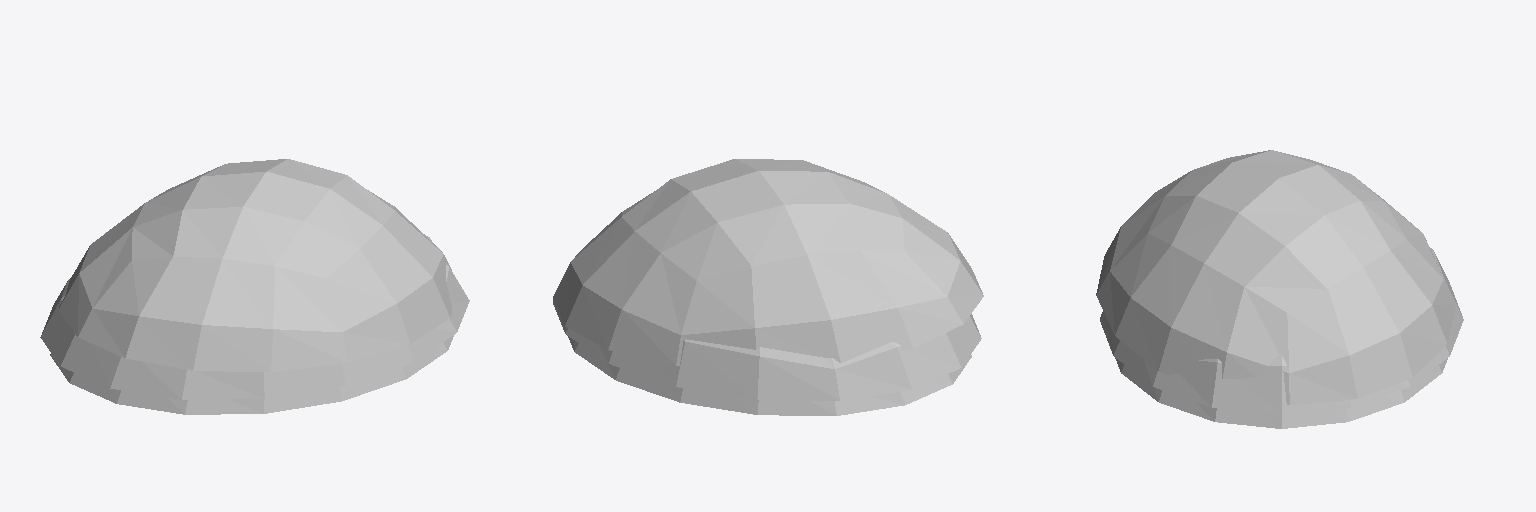
The model's file is bush.obj.
3 views of the same model, side by side, from view 1: azimuth 30°, elevation 25°; view 2: azimuth 150°, elevation 25°; view 3: azimuth 270°, elevation 25° (orthographic).
Visible parts, largest first — view 1: Plane.001; view 2: Plane.001; view 3: Plane.001.
Boxes of the visible parts, <box> form: Plane.001: <box>40,159,469,414</box>; Plane.001: <box>553,159,983,415</box>; Plane.001: <box>1096,150,1463,428</box>.
Size of the model in its own units: 3.94 by 1.59 by 3.22.